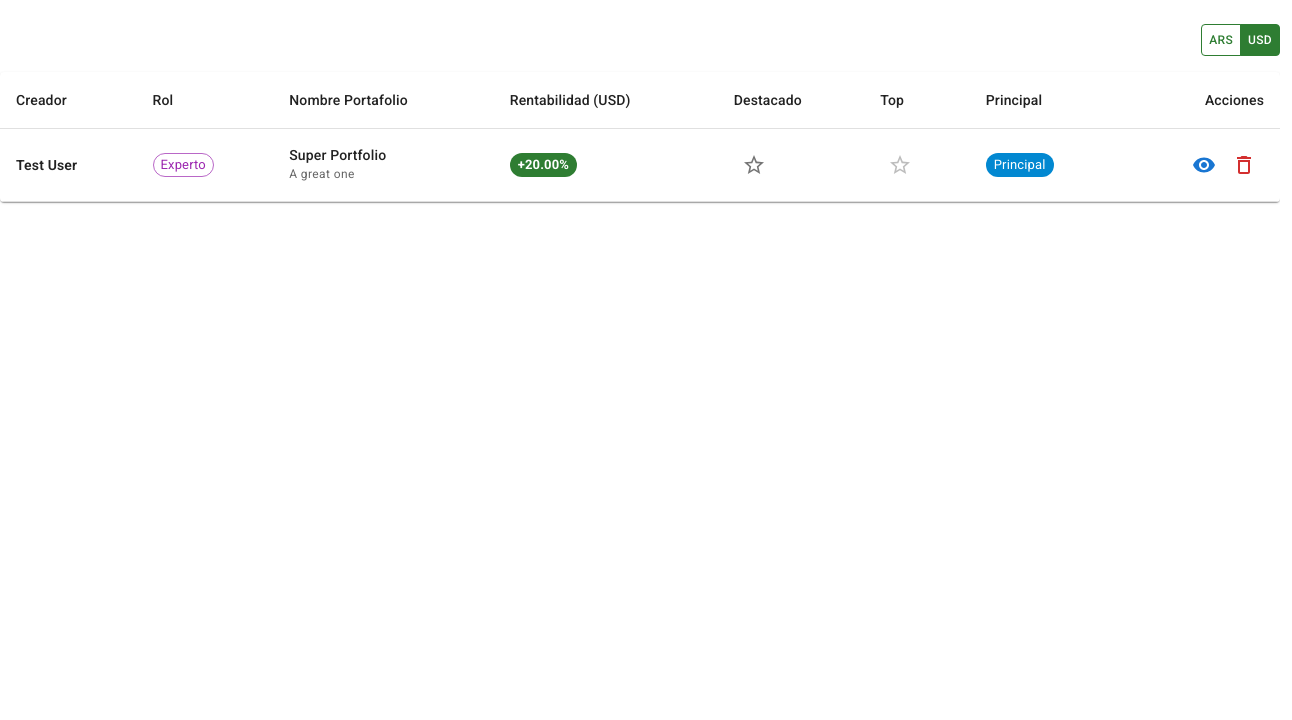
Scenario: PortafolioTab › handles toggle top with validation
Click the button titled "Marcar como Top" at coordinates (900, 165), box 880,145 -> 920,185
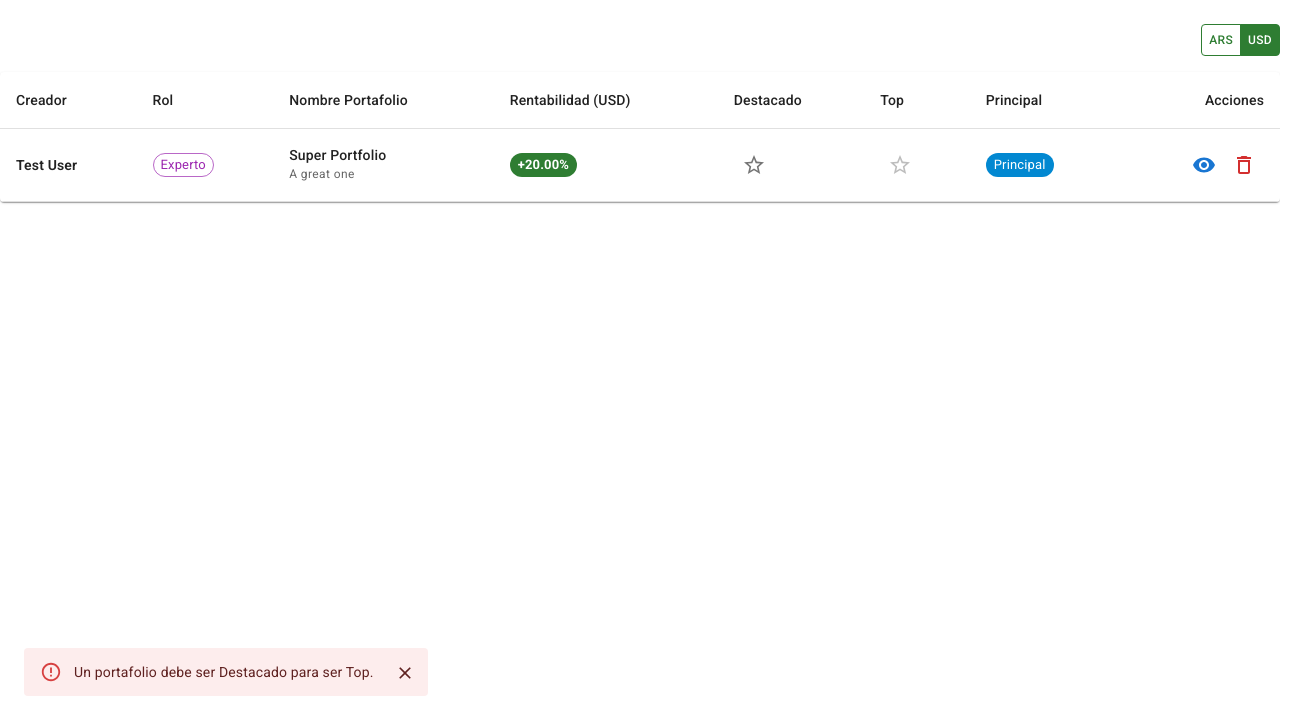
Expected: the text "Un portafolio debe ser Destacado para ser Top." is shown, 74,664 -> 374,680
